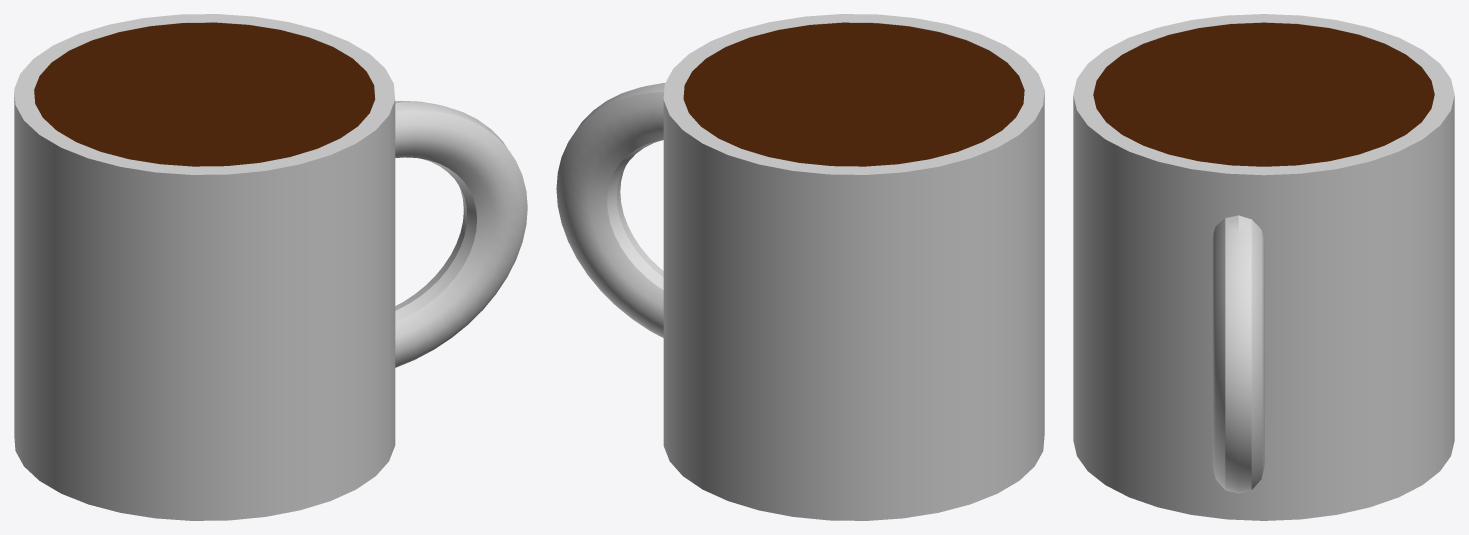
File: CoffeMug5.fbx
The picture shows the model from 3 angles, left to right: view 1: azimuth 30°, elevation 25°; view 2: azimuth 150°, elevation 25°; view 3: azimuth 270°, elevation 25°; orthographic projection.
Visible parts, largest first — view 1: Mug, Coffee; view 2: Mug, Coffee; view 3: Mug, Coffee.
Boxes of the visible parts, left/top/right/bottom form: Mug: left=14, top=14, right=527, bottom=520; Coffee: left=34, top=22, right=375, bottom=166; Mug: left=556, top=14, right=1044, bottom=520; Coffee: left=683, top=22, right=1024, bottom=166; Mug: left=1073, top=14, right=1454, bottom=520; Coffee: left=1093, top=22, right=1434, bottom=166.
Bounding box in the file's own units: 12.51 × 8.77 × 8.77.
